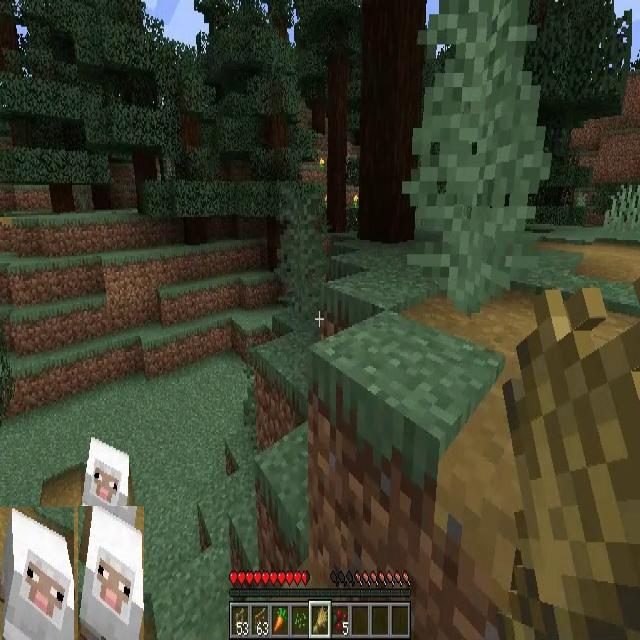sheep: (0, 507, 74, 640), (78, 506, 144, 640), (82, 436, 130, 523)
